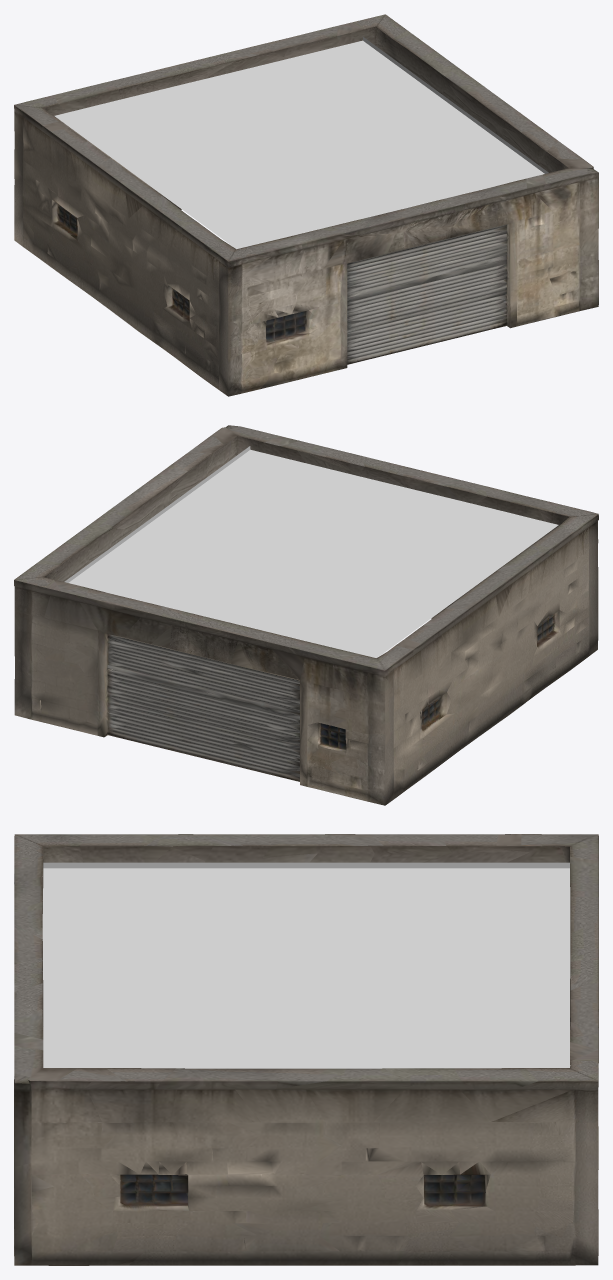
File: warehouse.glb
The picture shows the model from 3 angles, top to bottom: view 1: azimuth 30°, elevation 25°; view 2: azimuth 150°, elevation 25°; view 3: azimuth 270°, elevation 25°; orthographic projection. The views are drawn at different scales.
Parts seen in each view (by area): view 1: wall, metal, trim, glass; view 2: wall, metal, trim, glass; view 3: wall, metal, trim, glass.
Boxes of the visible parts, x1,y1,x2,y2 form: wall: (14,26,598,396); metal: (55,37,548,249); trim: (14,14,598,261); glass: (48,188,319,347); wall: (14,436,598,805); metal: (64,446,558,657); trim: (14,425,598,670); glass: (307,602,566,753); wall: (14,834,598,1265); metal: (42,862,570,1068); trim: (14,834,598,1083); glass: (110,1161,495,1222).
Size of the model in its own units: 12 by 4.19 by 12.
Materials: 1 (1 with a texture image).
